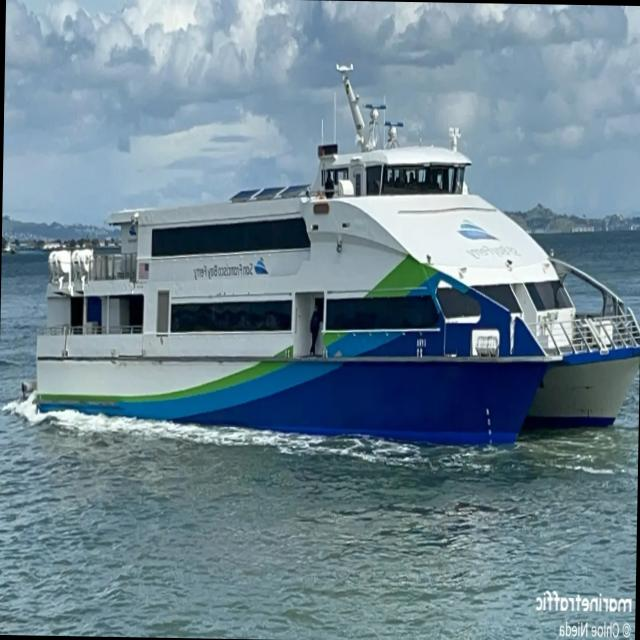Passenger: (37, 105, 640, 442)
